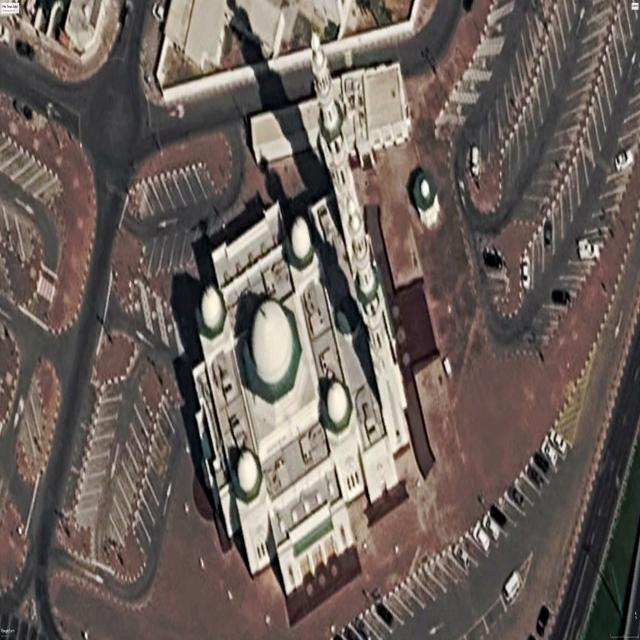Home: (194, 33, 409, 624)
